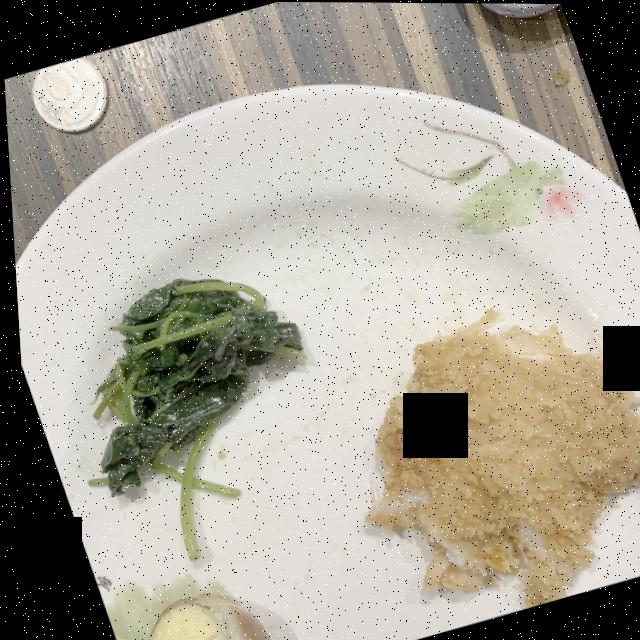coin: (31, 57, 106, 131)
fried chicken cutlet: (358, 308, 640, 606)
soy egg: (140, 592, 263, 640)
sweet potato leaves: (82, 277, 301, 560)
